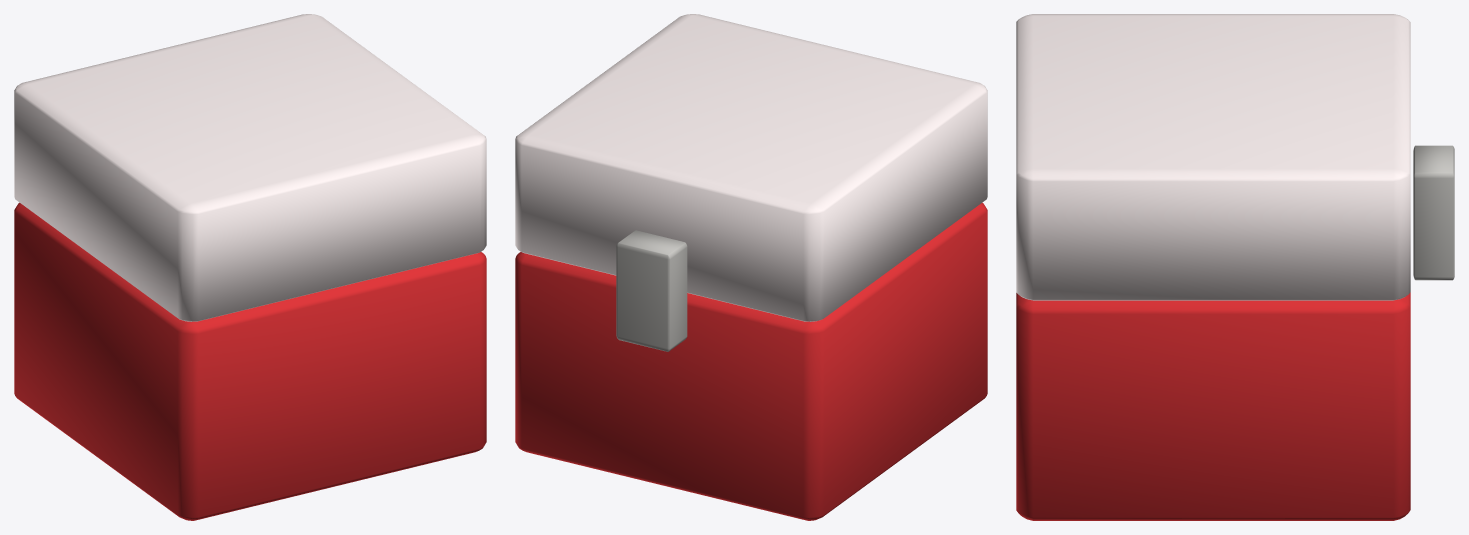
The model's file is item.glb.
3 renders of one model, left to right at view 1: azimuth 30°, elevation 25°; view 2: azimuth 150°, elevation 25°; view 3: azimuth 270°, elevation 25°, orthographic. The views are drawn at different scales.
Parts seen in each view (by area): view 1: Cube.001, MainObject; view 2: Cube.001, MainObject, Cube.002; view 3: Cube.001, MainObject, Cube.002.
Part boxes in pixels (x1,y1,x2,y2): Cube.001: (14,14,486,321); MainObject: (14,202,486,520); Cube.001: (515,14,987,321); MainObject: (515,202,987,520); Cube.002: (616,230,687,351); Cube.001: (1016,14,1410,300); MainObject: (1016,292,1410,520); Cube.002: (1413,145,1454,280).
Bounding box in the file's own units: 2.12 × 2.08 × 2.36.
